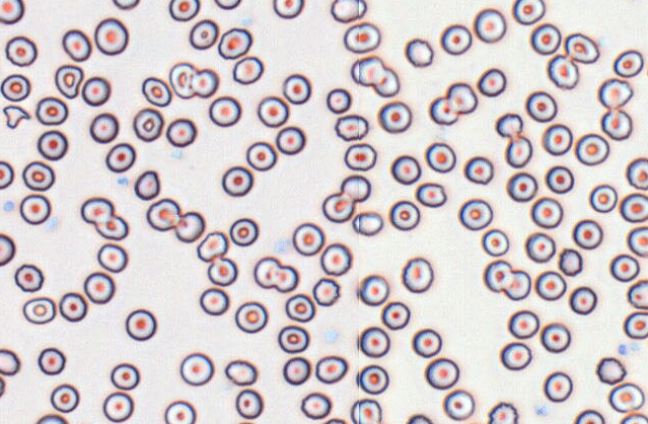PLT: (533, 401, 553, 418), (116, 173, 131, 189), (617, 341, 631, 355), (2, 199, 14, 214)
RBC: (93, 17, 128, 55), (179, 352, 214, 386), (473, 7, 506, 43), (401, 256, 433, 293), (575, 132, 609, 166), (146, 198, 181, 231), (546, 54, 579, 89), (377, 100, 412, 133), (343, 22, 380, 53), (234, 300, 268, 333), (598, 77, 633, 109), (424, 357, 459, 389), (217, 27, 252, 59), (458, 198, 493, 230), (608, 382, 644, 413), (320, 242, 352, 276), (292, 222, 324, 256), (350, 55, 385, 86), (132, 107, 163, 142), (564, 32, 599, 63), (83, 271, 115, 304), (530, 196, 563, 228), (208, 95, 241, 127), (21, 160, 55, 191), (168, 62, 197, 98), (196, 230, 228, 262), (221, 165, 253, 197), (525, 90, 557, 122), (440, 23, 472, 55), (257, 95, 289, 127), (322, 192, 355, 223), (442, 389, 475, 420), (125, 308, 156, 341), (446, 82, 477, 114), (174, 210, 205, 242), (96, 242, 128, 273), (102, 391, 134, 422), (36, 129, 68, 160), (601, 108, 632, 140), (19, 193, 51, 224), (524, 231, 555, 263), (358, 326, 390, 357), (424, 142, 456, 173), (5, 35, 37, 66), (530, 23, 561, 55), (541, 123, 572, 155), (388, 199, 420, 230), (356, 364, 389, 394), (506, 171, 537, 202), (245, 140, 276, 171), (358, 274, 389, 305), (572, 218, 603, 249), (507, 309, 539, 339), (534, 270, 566, 300), (483, 259, 512, 292), (499, 341, 532, 370), (314, 355, 347, 384), (62, 28, 91, 61), (35, 96, 68, 125), (343, 142, 376, 171), (80, 196, 114, 224), (22, 296, 56, 324), (501, 269, 531, 300), (206, 256, 237, 286), (540, 322, 570, 353), (141, 76, 171, 107), (81, 75, 111, 106), (390, 154, 421, 184), (89, 112, 119, 143), (165, 117, 196, 147), (253, 256, 282, 288), (277, 324, 309, 353), (504, 135, 532, 168), (334, 114, 368, 141), (380, 300, 410, 330), (188, 19, 218, 49), (105, 142, 135, 172), (275, 125, 305, 155), (58, 291, 87, 322), (232, 55, 263, 84), (284, 293, 315, 322), (543, 371, 572, 402), (411, 328, 442, 357), (282, 73, 311, 104), (94, 214, 128, 240), (428, 96, 458, 125), (50, 383, 79, 413), (609, 253, 639, 282), (404, 37, 433, 67), (476, 67, 506, 96), (568, 285, 597, 315), (463, 155, 493, 184), (588, 183, 617, 213), (340, 174, 371, 202), (595, 356, 626, 384), (300, 391, 331, 419), (235, 388, 263, 419), (613, 49, 644, 77), (224, 359, 257, 385), (14, 263, 43, 292), (282, 356, 311, 385), (229, 217, 258, 246), (545, 165, 574, 194), (191, 67, 219, 97), (0, 73, 30, 101), (110, 362, 140, 390), (199, 287, 229, 315), (619, 192, 647, 222), (372, 66, 399, 97), (512, 0, 545, 25), (312, 277, 340, 306), (352, 210, 383, 236), (350, 398, 382, 423), (330, 0, 366, 22), (270, 264, 298, 292), (37, 347, 65, 375), (481, 228, 509, 256), (134, 170, 160, 200), (415, 182, 446, 207), (164, 399, 196, 423), (495, 112, 523, 139), (558, 247, 583, 276), (623, 310, 647, 339), (626, 157, 647, 190), (487, 401, 518, 423), (626, 225, 647, 257), (168, 0, 200, 21), (326, 87, 351, 113), (626, 279, 647, 309), (0, 0, 24, 24), (0, 348, 20, 376), (273, 0, 304, 18), (0, 233, 15, 266), (573, 409, 605, 423), (0, 160, 14, 189), (35, 413, 68, 423), (618, 412, 647, 423), (405, 413, 433, 423), (112, 0, 140, 10), (214, 0, 241, 10), (323, 417, 346, 423), (0, 375, 5, 397), (235, 420, 258, 424)
Schistocyte: (54, 65, 84, 99), (1, 104, 32, 129)
